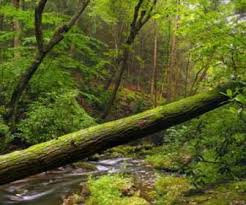forest: (3, 4, 242, 202)
tree: (14, 1, 83, 116), (88, 1, 157, 116)
